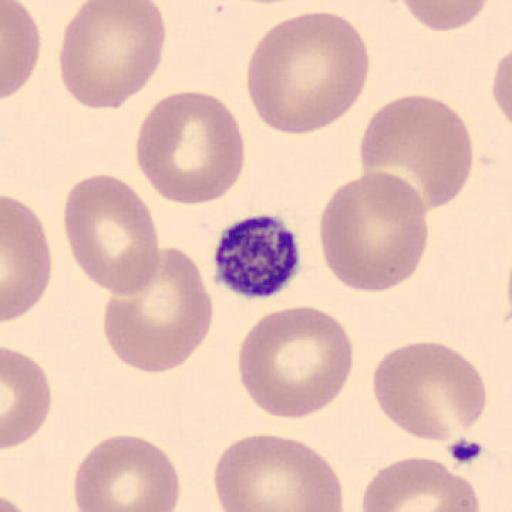Platelet: (209, 211, 304, 302)
RBC: (245, 11, 371, 136), (101, 246, 215, 376), (357, 92, 475, 212), (237, 304, 355, 422), (317, 171, 430, 293), (61, 172, 161, 299), (135, 90, 245, 205), (371, 340, 488, 443), (58, 0, 167, 110), (212, 433, 346, 512), (73, 433, 182, 512), (360, 455, 478, 512), (2, 194, 53, 324), (2, 346, 52, 451), (2, 0, 42, 102), (400, 0, 489, 32), (490, 46, 512, 131)
